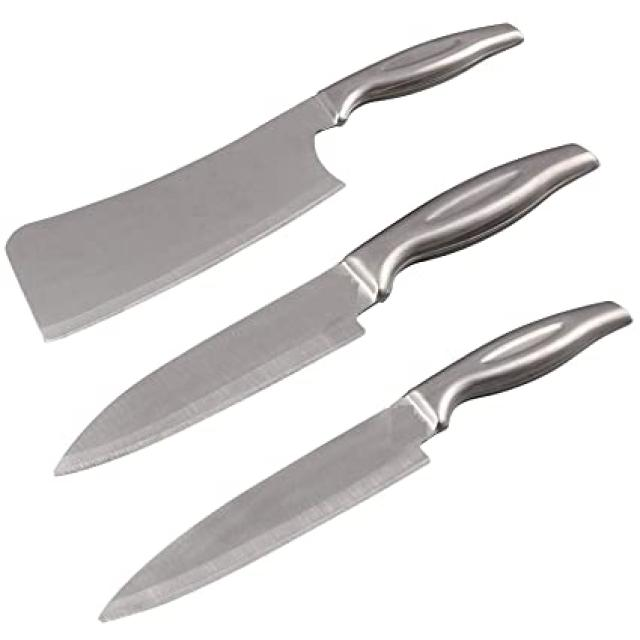Weapon: (19, 134, 613, 509), (2, 6, 524, 358), (84, 298, 634, 631)
